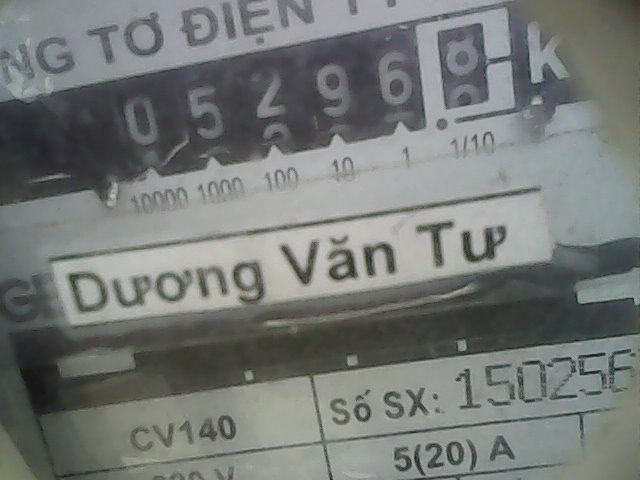phy_plate: (81, 6, 523, 166)
